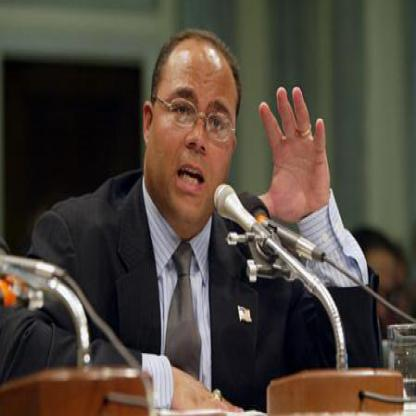face: (152, 33, 238, 230)
